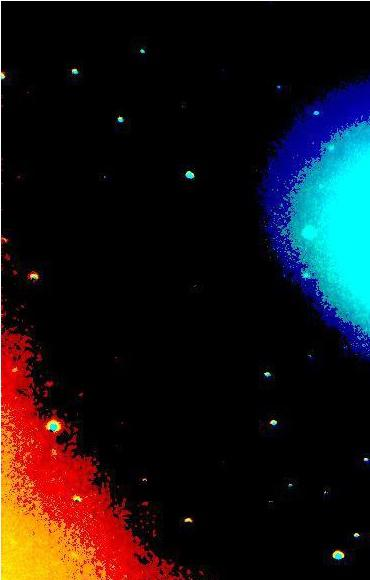star: (12, 226, 42, 256)
